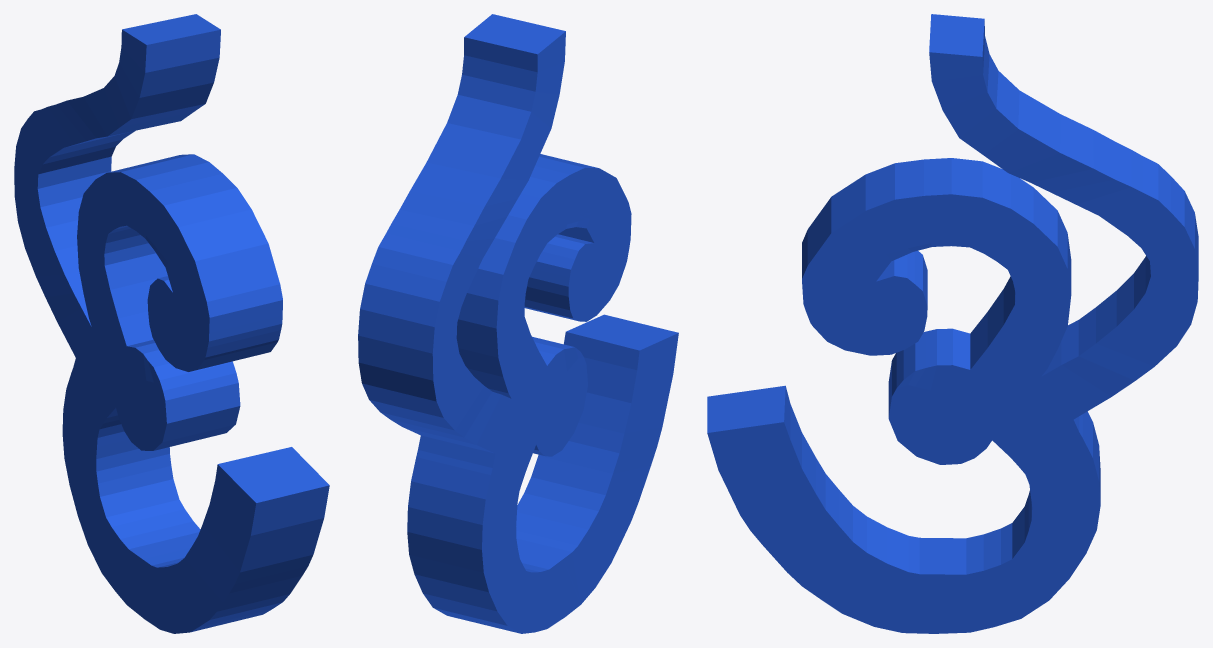
The picture shows the model from 3 angles, left to right: view 1: azimuth 30°, elevation 25°; view 2: azimuth 150°, elevation 25°; view 3: azimuth 270°, elevation 25°; orthographic projection.
Visible parts, largest first — view 1: Cube; view 2: Cube; view 3: Cube.
Boxes of the visible parts, bbox=[...] form: Cube: bbox=[14, 14, 329, 633]; Cube: bbox=[358, 14, 678, 633]; Cube: bbox=[707, 14, 1198, 633].
Size of the model in its own units: 173 by 1243 by 948.
